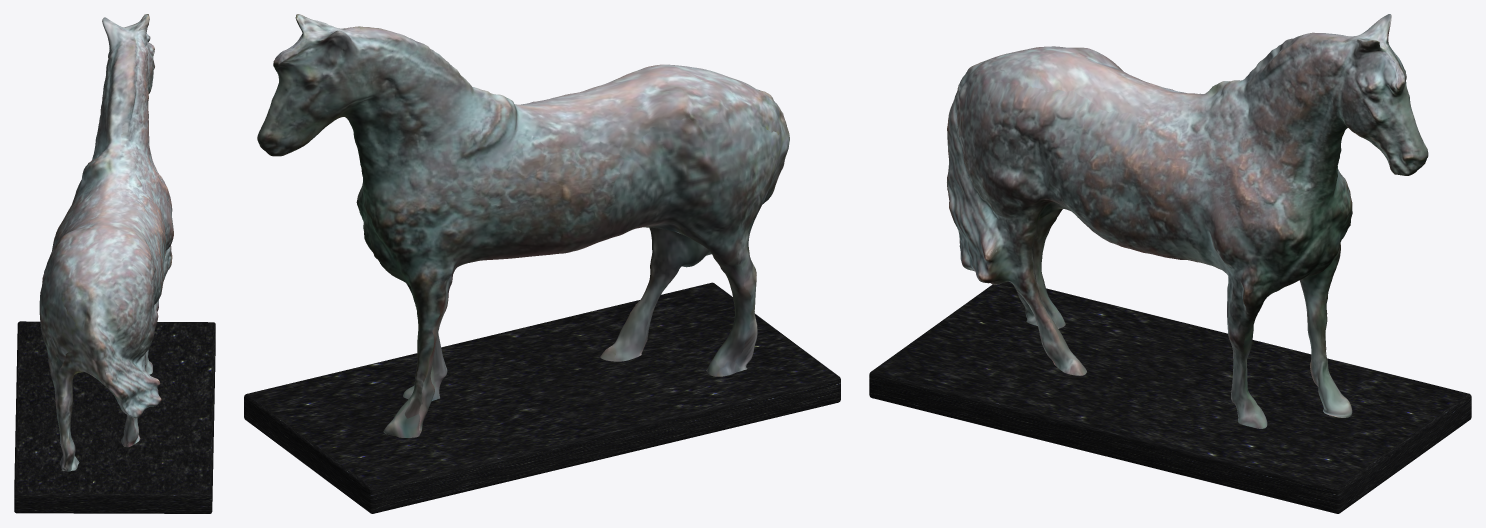
The model's file is escCaballo.dae.
3 views of the same model, side by side, from view 1: azimuth 30°, elevation 25°; view 2: azimuth 150°, elevation 25°; view 3: azimuth 270°, elevation 25° (orthographic). The views are drawn at different scales.
Visible parts, largest first — view 1: Object, Cube; view 2: Object, Cube; view 3: Object, Cube.
Boxes of the visible parts, x1,y1,x2,y2 form: Object: (39,14,173,471); Cube: (14,321,215,513); Object: (257,14,789,437); Cube: (244,282,840,513); Object: (947,14,1428,428); Cube: (869,281,1471,513).
Bounding box in the file's own units: 144 × 139 × 172.
4 materials, 4 textured.
